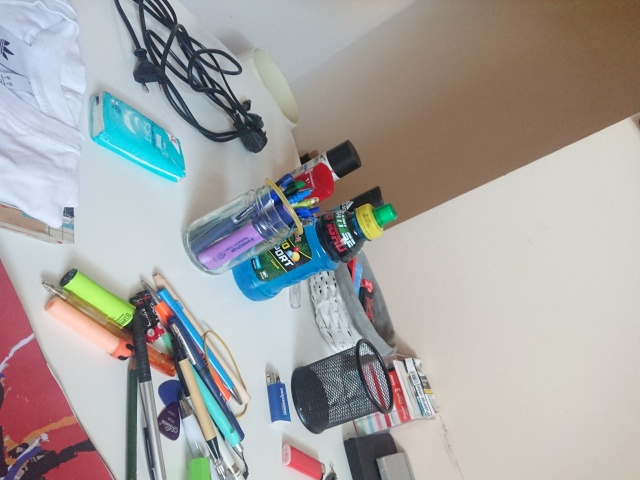Vindi Iso Sport Forest Strawberries 500mL: (230, 200, 399, 303)
